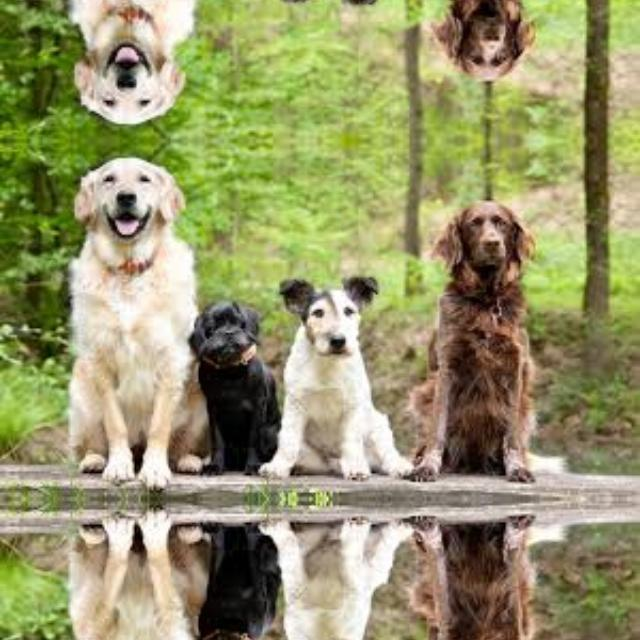dog: (64, 152, 204, 494), (414, 182, 550, 492), (270, 252, 392, 480), (63, 502, 204, 640), (413, 505, 550, 640), (63, 0, 204, 128), (269, 517, 392, 640), (413, 0, 550, 98), (269, 0, 392, 27)
